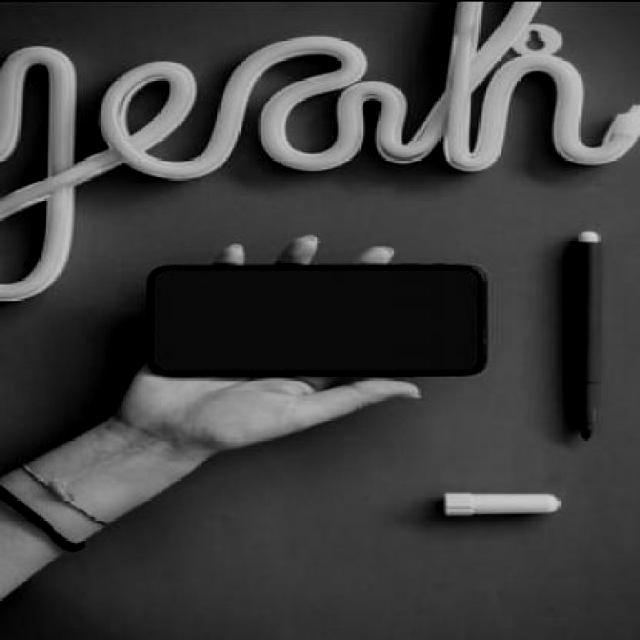fake: (148, 262, 486, 376)
